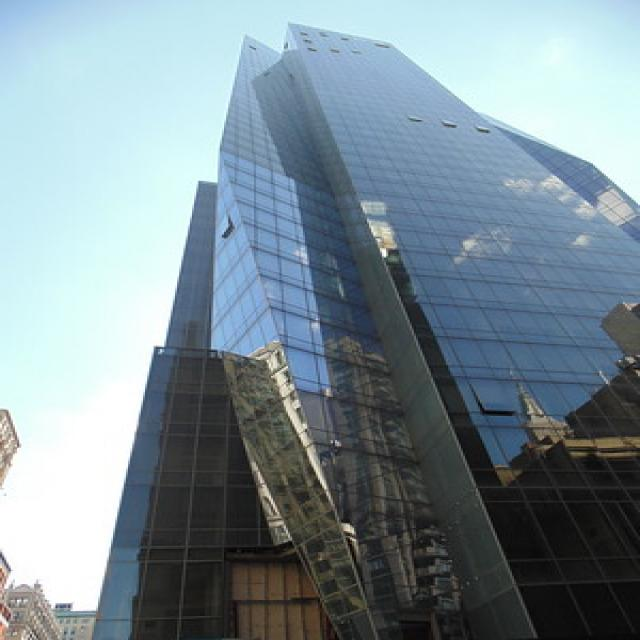Normal_building: (81, 13, 634, 637)
